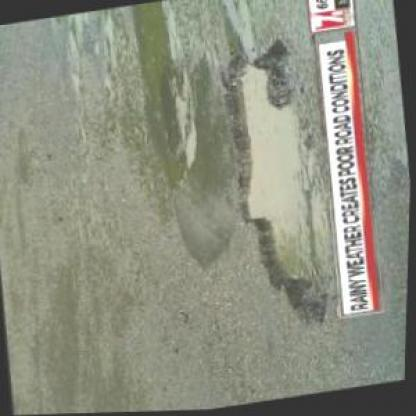pothole: (212, 35, 351, 334)
